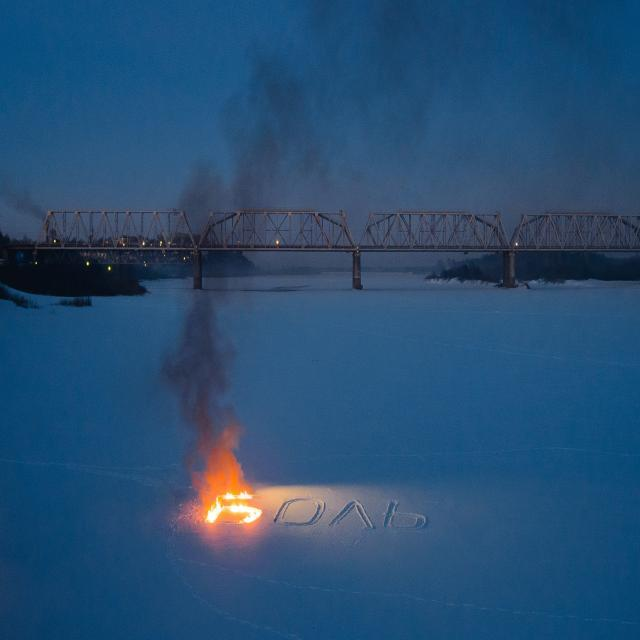Fire: (203, 482, 263, 537)
Smoke: (160, 0, 420, 476)
